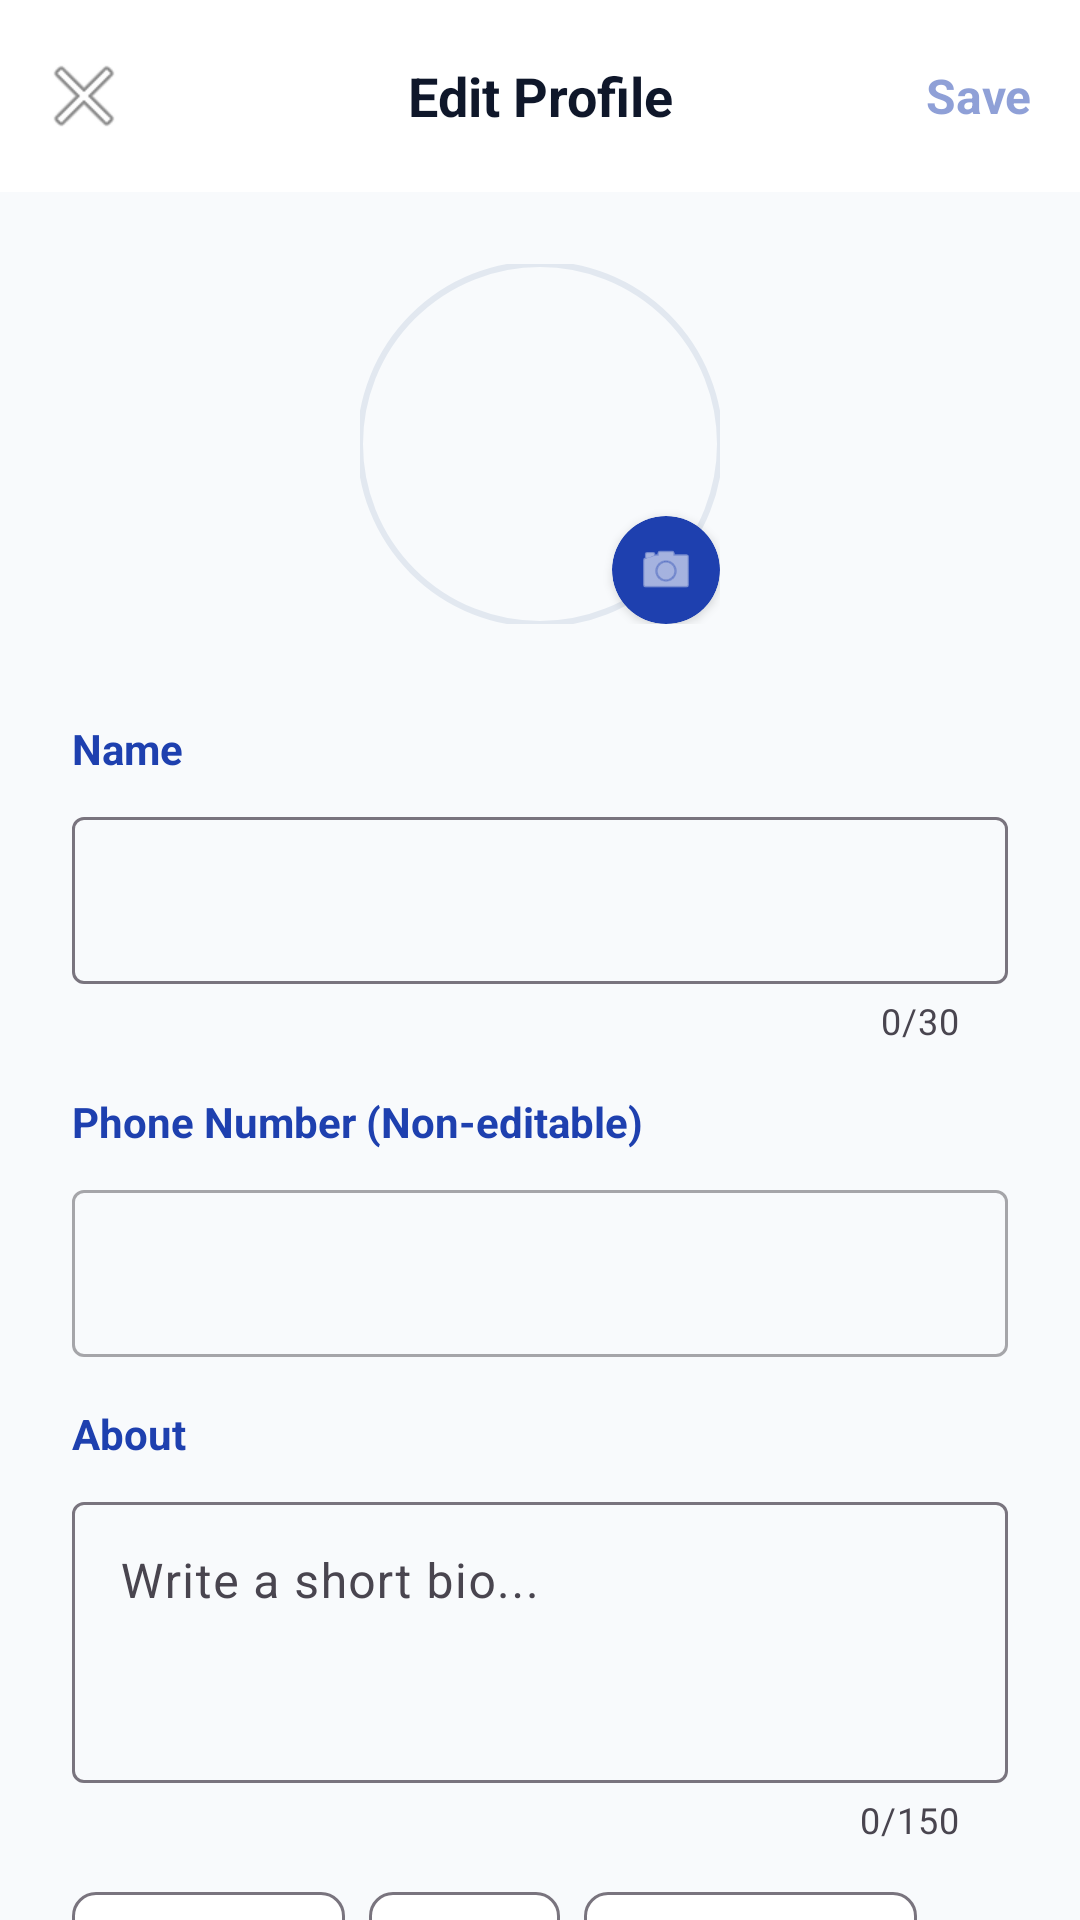

Named icons in this screenshot (1080 × 1920) and their centers, [x,y]:
Change Photo: [666,570]
